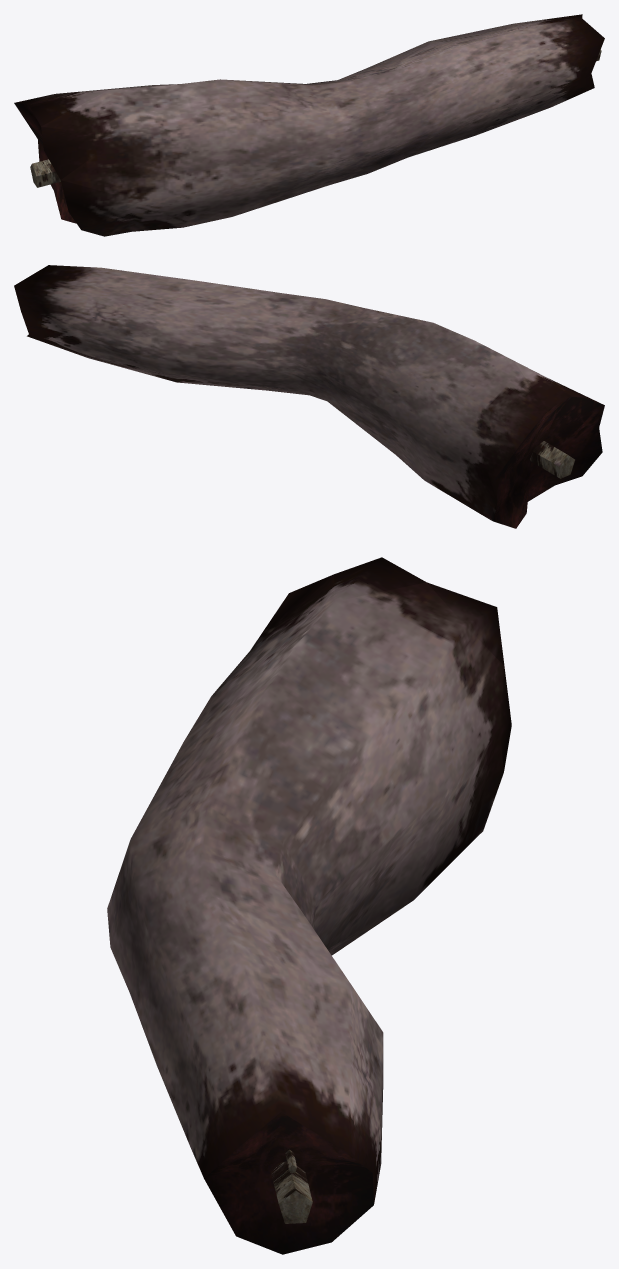
File: corpse_male_leg.dae
The picture shows the model from 3 angles, top to bottom: view 1: azimuth 30°, elevation 25°; view 2: azimuth 150°, elevation 25°; view 3: azimuth 270°, elevation 25°; orthographic projection. The views are drawn at different scales.
Parts seen in each view (by area): view 1: polySurface24; view 2: polySurface24; view 3: polySurface24.
Part boxes in pixels (left/top/right/bottom): polySurface24: left=14, top=14, right=604, bottom=236; polySurface24: left=14, top=265, right=604, bottom=528; polySurface24: left=107, top=557, right=511, bottom=1254.
Size of the model in its own units: 0.8589 by 0.2068 by 0.271.
